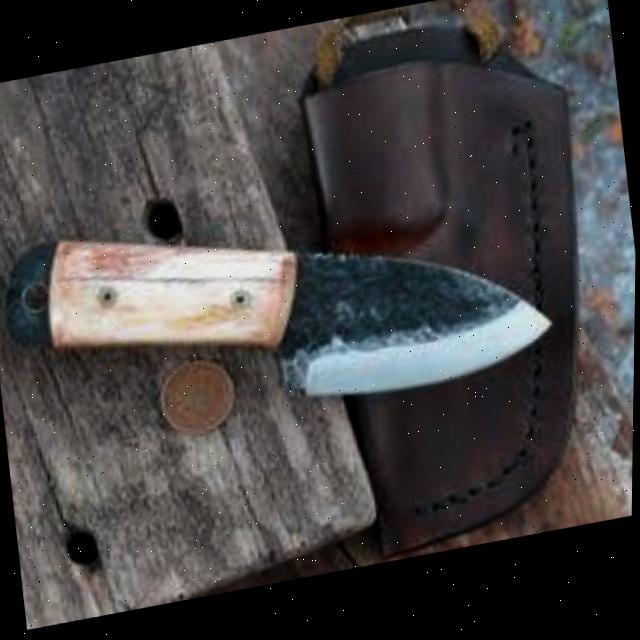Knife: (0, 151, 562, 460)
